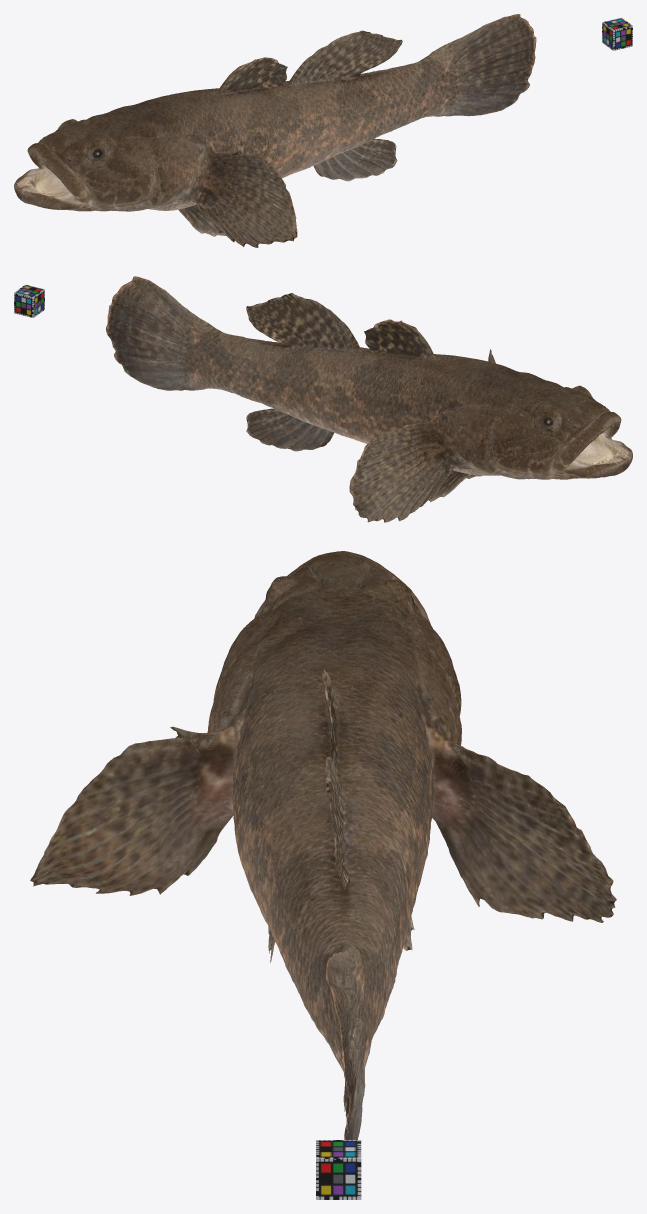
The model's file is scan_sleeper.glb.
3 views of the same model, one above another, from view 1: azimuth 30°, elevation 25°; view 2: azimuth 150°, elevation 25°; view 3: azimuth 270°, elevation 25° (orthographic). The views are drawn at different scales.
Visible parts, largest first — view 1: Object_6, Object_4; view 2: Object_6, Object_4; view 3: Object_6, Object_4.
Boxes of the visible parts, x1,y1,x2,y2 form: Object_6: [14, 14, 536, 247]; Object_4: [602, 17, 632, 50]; Object_6: [106, 276, 632, 522]; Object_4: [14, 284, 44, 317]; Object_6: [30, 551, 616, 1139]; Object_4: [316, 1140, 361, 1199].
Bounding box in the file's own units: 0.3107 × 0.0782 × 0.1299.
Materials: 2 (2 with a texture image).
